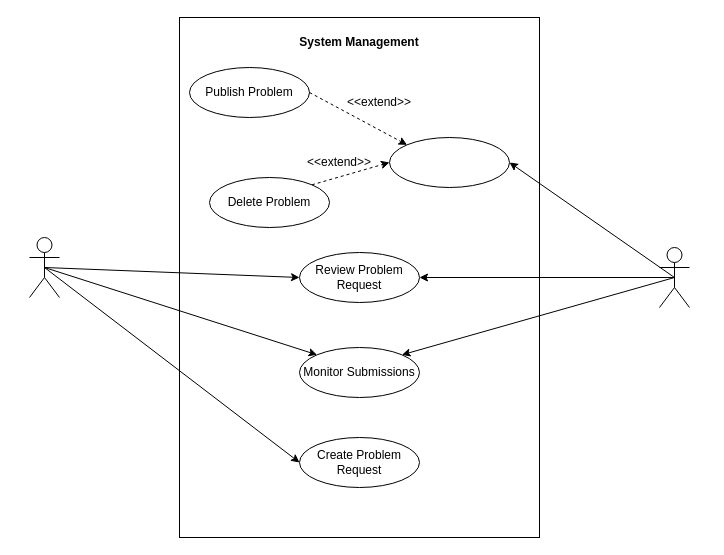
Image size: 724x555. Some labels were removed from this diagram. Here are the shapes that lost their labels. From the top down, the box of each, then its label:
(388, 136, 510, 188): Manage Problems
(28, 236, 60, 298): Moderator
(658, 246, 690, 308): Superadmin
